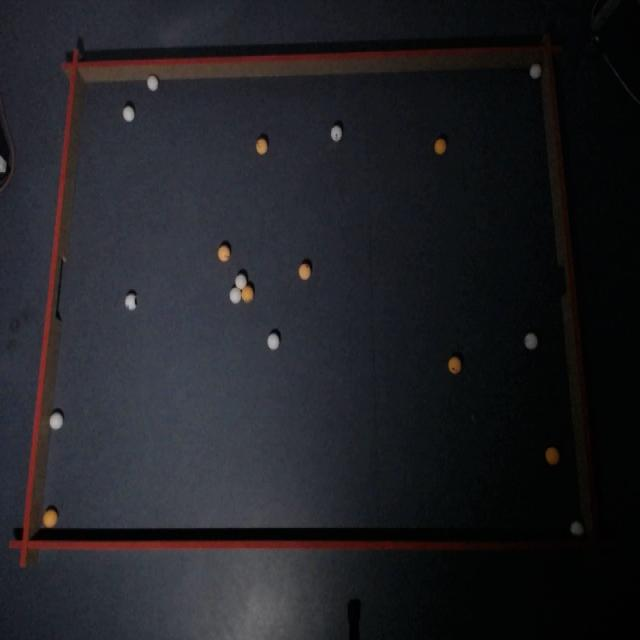orange_ball: (43, 506, 59, 528), (545, 446, 559, 466), (241, 284, 254, 303), (434, 136, 447, 154), (448, 356, 461, 374), (299, 263, 311, 280), (218, 244, 230, 261), (256, 140, 265, 153)
white_ball: (49, 410, 64, 430), (524, 332, 538, 350), (267, 332, 280, 351), (570, 521, 584, 537), (529, 62, 542, 79), (123, 105, 135, 122), (146, 75, 158, 92), (230, 287, 242, 304), (235, 272, 247, 288), (331, 125, 342, 141), (126, 298, 136, 311)
